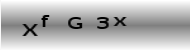3: (96, 16, 110, 30)
G: (67, 16, 83, 29)
X: (21, 23, 39, 37)
f: (40, 13, 50, 28)
x: (113, 16, 128, 27)
